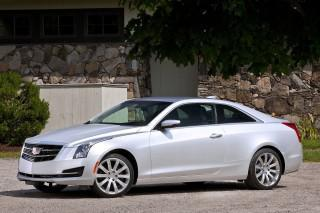cadillac: (29, 144, 45, 158)
